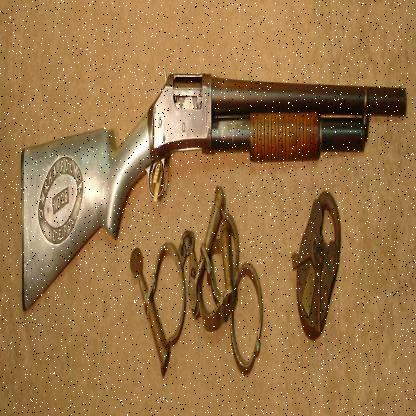rifle: (12, 27, 411, 338)
